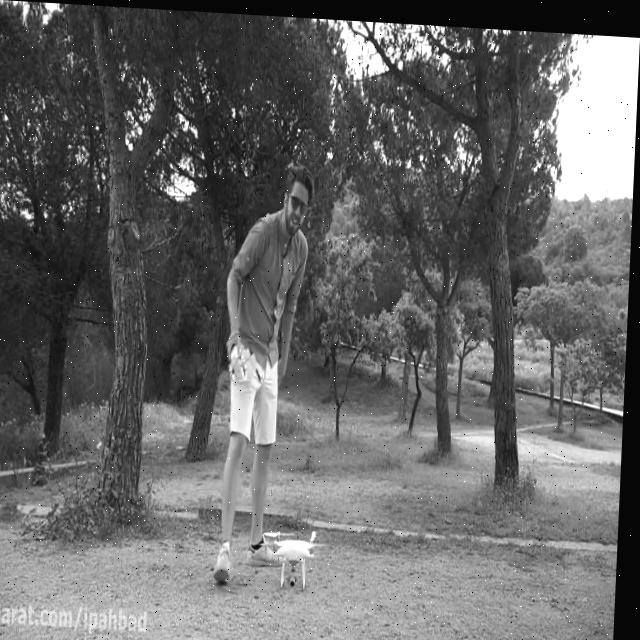drone: (271, 522, 331, 592)
